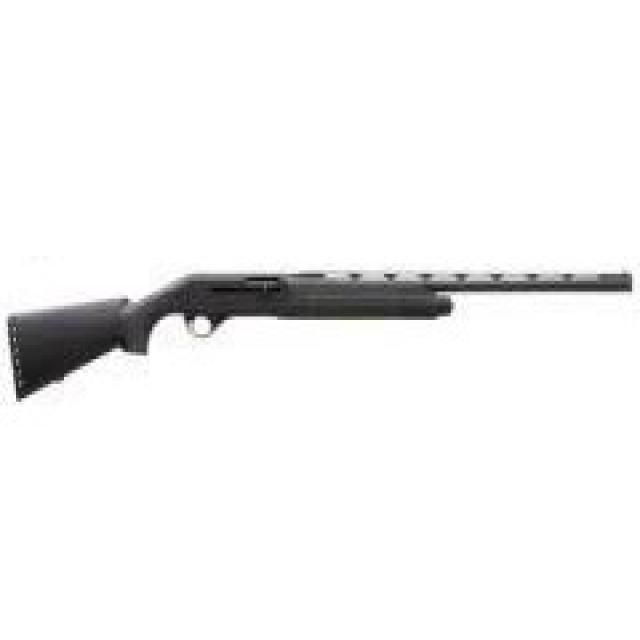rifle: (3, 239, 640, 413)
